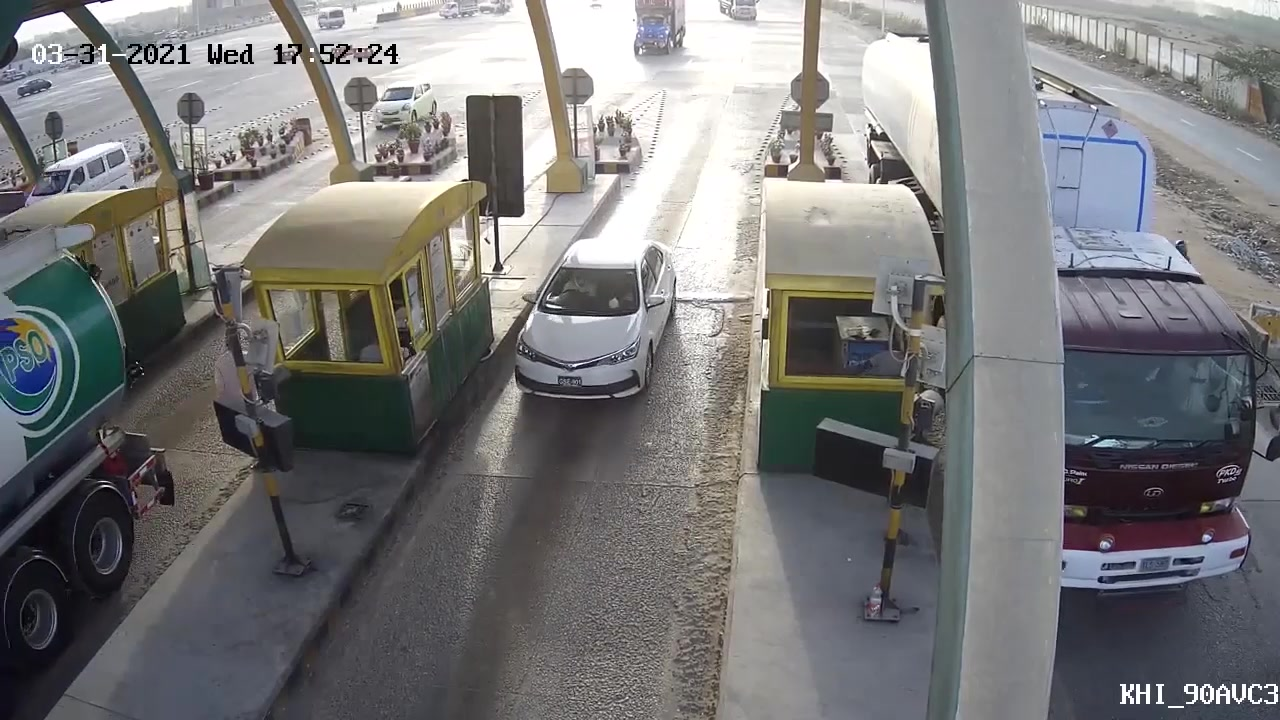F1: (499, 234, 686, 412)
